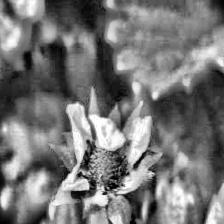Blossom Blight: (75, 137, 134, 196)
